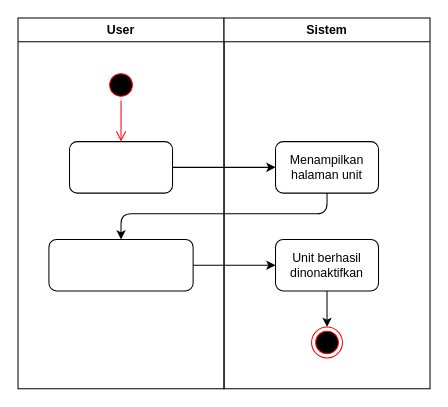
The diagram is 448 pixels wide and 407 high, and some of its shapes have lost their labels. Here are the shapes that lost their labels. From the top down, the centre of each, then its label:
point (120, 167): Pilih fitur unit
point (120, 264): Pilih salah satu tombol nonaktif pada kolom aksi (icon stop)
